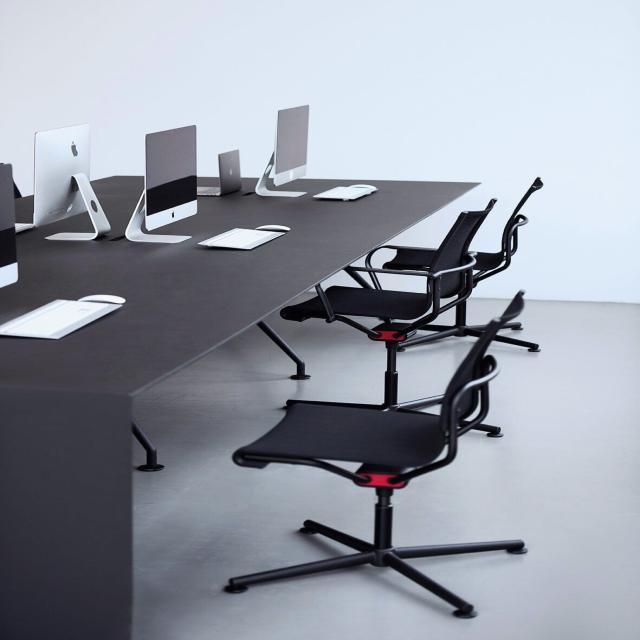chair: (224, 289, 529, 618), (278, 197, 498, 411), (362, 176, 544, 352)
